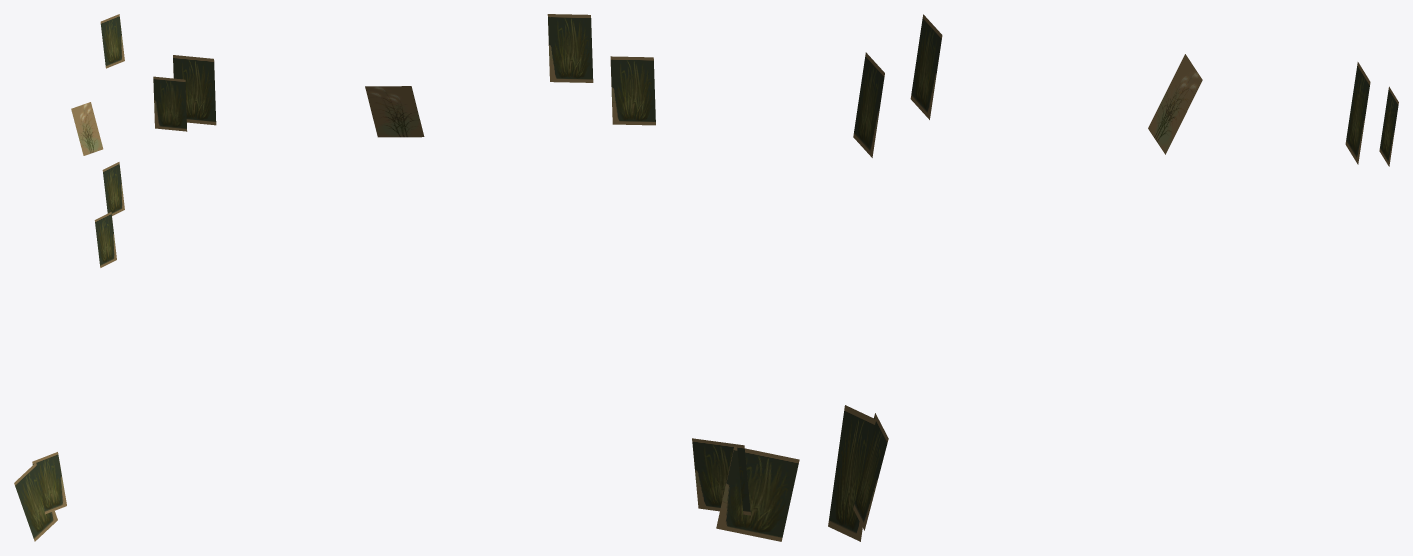
The model's file is object_grass_polys11.fbx.
3 renders of one model, left to right at view 1: azimuth 30°, elevation 25°; view 2: azimuth 150°, elevation 25°; view 3: azimuth 270°, elevation 25°, orthographic. The views are drawn at different scales.
Parts seen in each view (by area): view 1: Material_#238683980/town_grass_mat; view 2: Material_#238683980/town_grass_mat; view 3: Material_#238683980/town_grass_mat.
Part boxes in pixels (bbox=[...]): Material_#238683980/town_grass_mat: bbox=[14, 14, 124, 541]; Material_#238683980/town_grass_mat: bbox=[153, 14, 799, 541]; Material_#238683980/town_grass_mat: bbox=[828, 14, 1398, 541].
Size of the model in its own units: 15.12 by 20.29 by 16.09.
